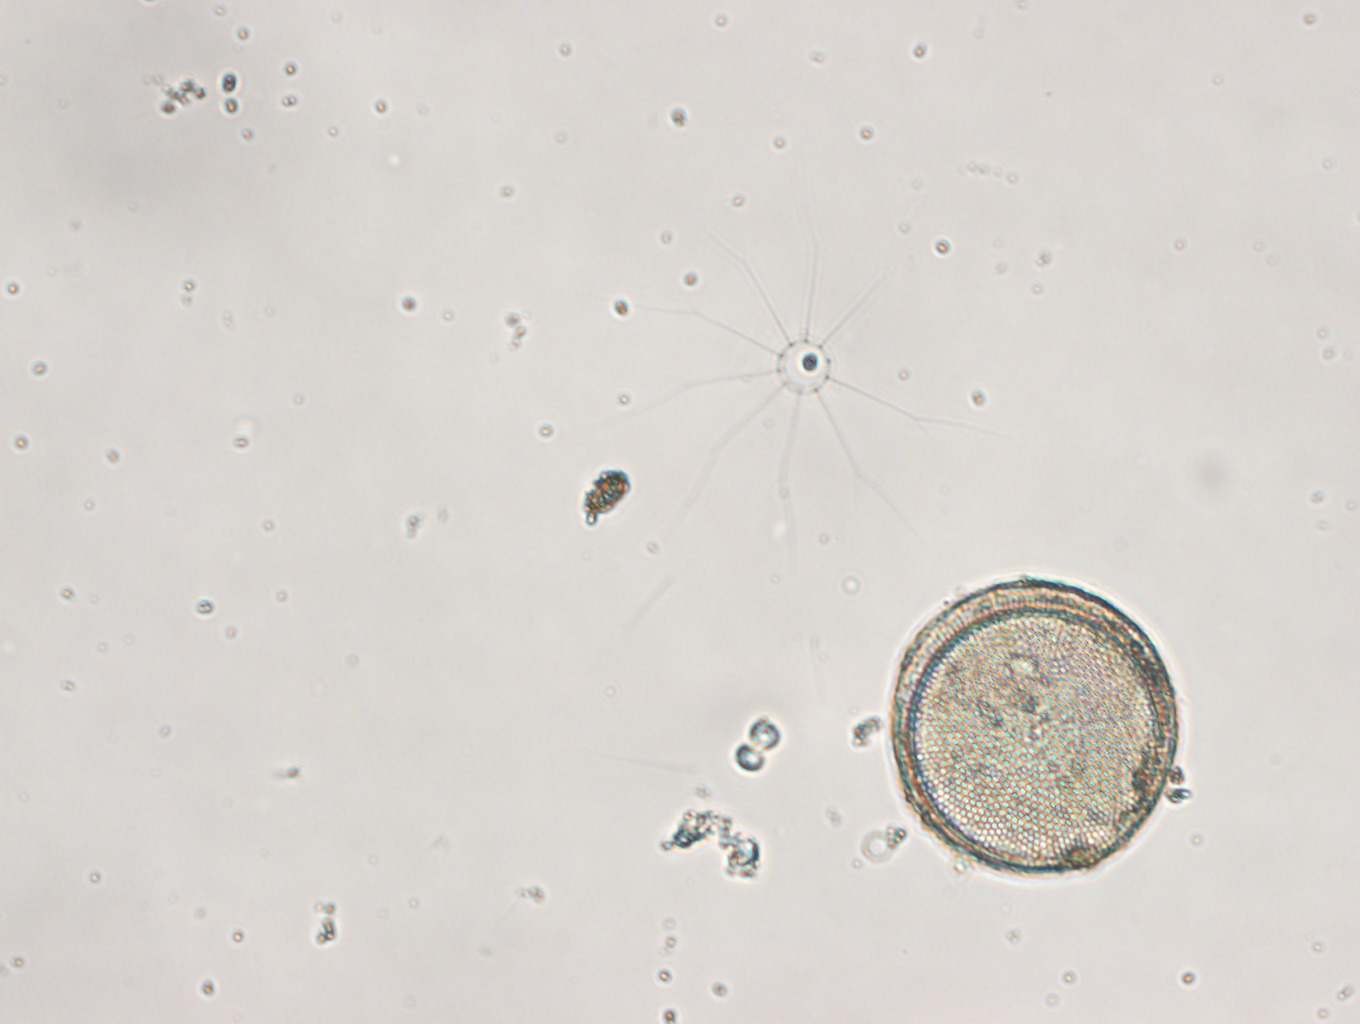bacteriastrum: (635, 208, 1014, 527)
coscinodiscus: (888, 578, 1182, 877)
